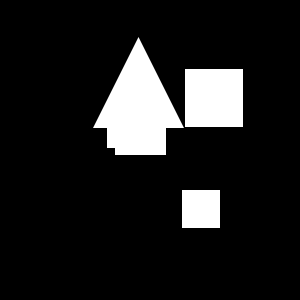circle: (185, 69, 243, 127), (115, 104, 166, 155), (182, 190, 220, 228), (107, 128, 127, 148)
triangle: (93, 37, 184, 128)
